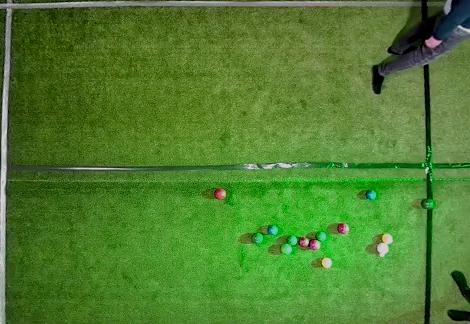blue: (365, 190, 376, 200), (268, 225, 278, 235)
green: (422, 198, 435, 209), (252, 233, 263, 244), (281, 244, 292, 254), (286, 236, 297, 245), (315, 232, 326, 241)
red: (337, 223, 349, 234), (377, 243, 389, 254), (215, 189, 226, 200), (309, 240, 320, 250), (299, 237, 309, 248)
vline: (424, 66, 469, 200), (424, 211, 469, 323), (0, 0, 14, 323), (421, 0, 469, 22)
white: (379, 253, 385, 257)
yellow: (382, 233, 393, 244), (322, 258, 332, 268)
